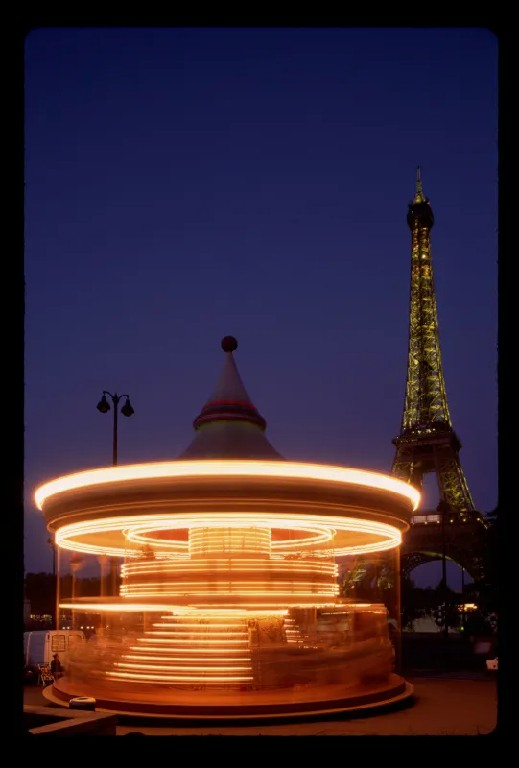Eiffel: (339, 166, 489, 601)
